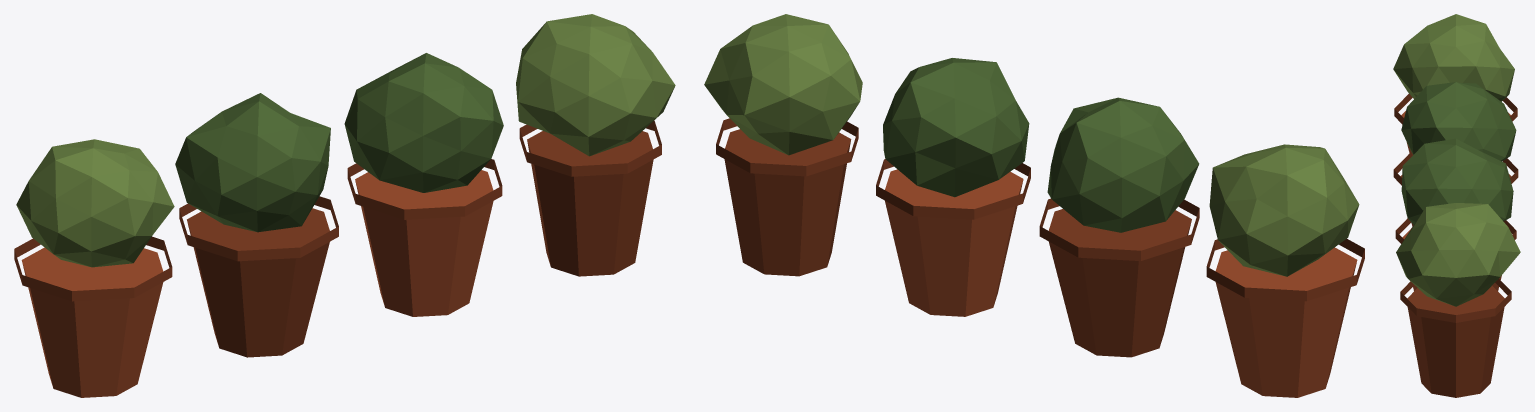
The model's file is parapet_pots.glb.
3 renders of one model, left to right at view 1: azimuth 30°, elevation 25°; view 2: azimuth 150°, elevation 25°; view 3: azimuth 270°, elevation 25°, orthographic. The views are drawn at different scales.
Visible parts, largest first — view 1: parapet_pots; view 2: parapet_pots; view 3: parapet_pots.
Part boxes in pixels (bbox=[...]): parapet_pots: bbox=[14, 14, 675, 397]; parapet_pots: bbox=[704, 14, 1364, 397]; parapet_pots: bbox=[1393, 14, 1520, 397].
Size of the model in its own units: 1.92 by 0.6841 by 0.4417.
